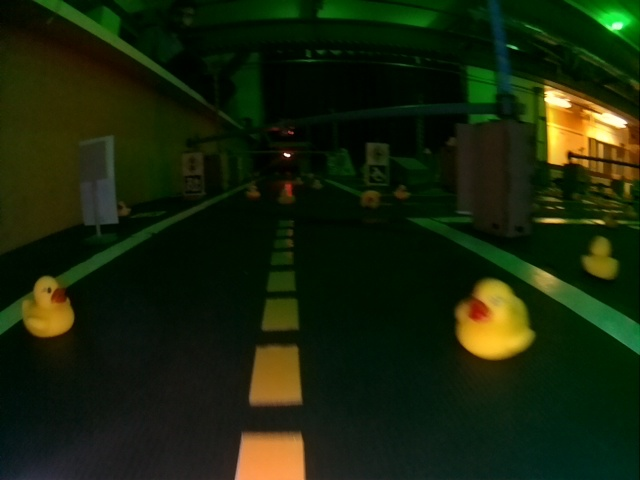Duckie: (453, 283, 533, 352), (24, 278, 76, 337), (580, 237, 619, 280), (361, 190, 376, 207), (117, 201, 131, 216), (278, 191, 295, 202), (394, 186, 406, 197), (246, 185, 255, 194)
Intersection sign: (367, 146, 388, 164)
QR code: (368, 165, 388, 185), (184, 176, 204, 194)
Signal sign: (184, 155, 201, 173)
